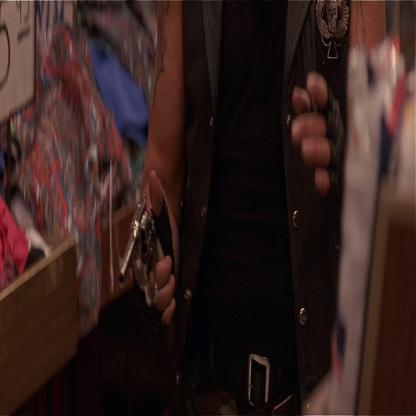gun: (116, 186, 167, 323)
